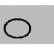no answer: (1, 15, 39, 42)
